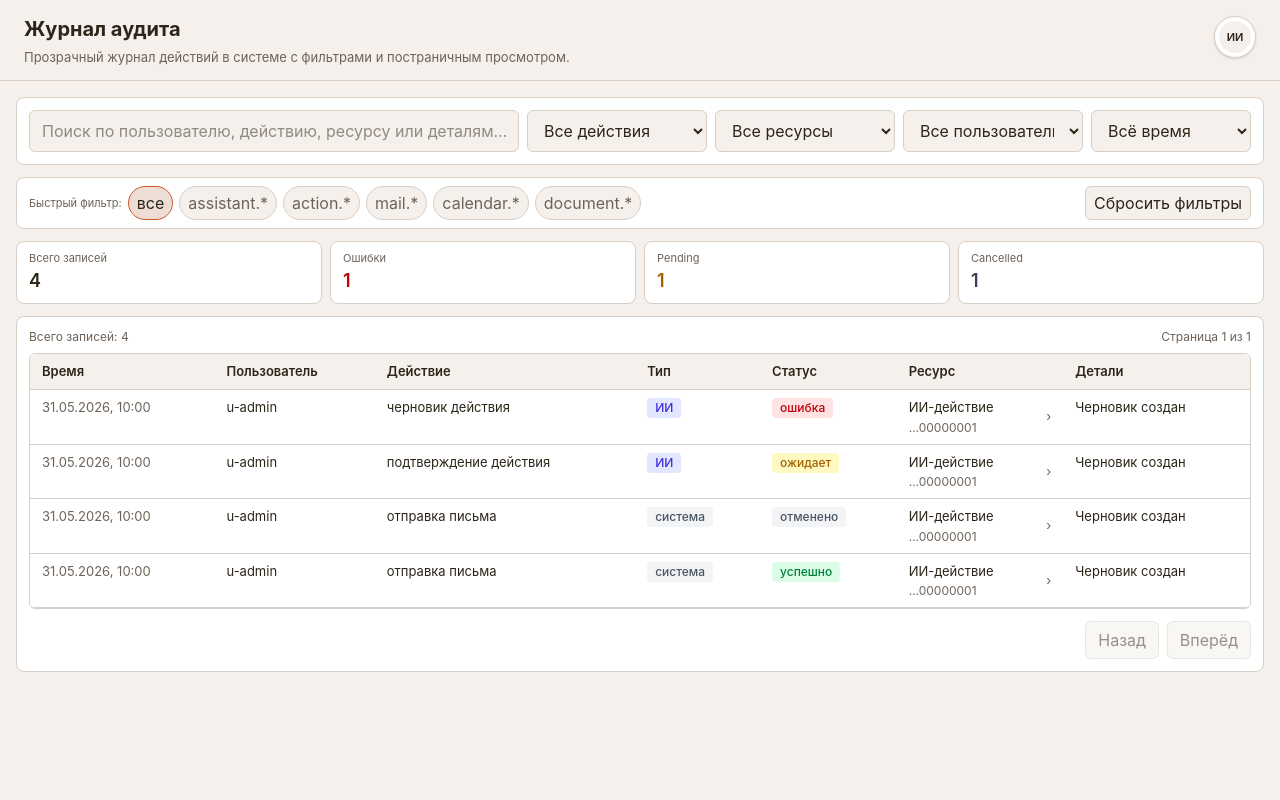
Test: AuditPage — summary and reset filters › shows summary counters for filtered records
The image size is (1280, 800).
Expected: the text with test id "audit-summary-total" reads "4", 29,270 -> 41,291
Expected: the text "Ошибки" is shown, 343,251 -> 386,265
Click the button "mail.*" at (397, 203), box 366,186 -> 427,220
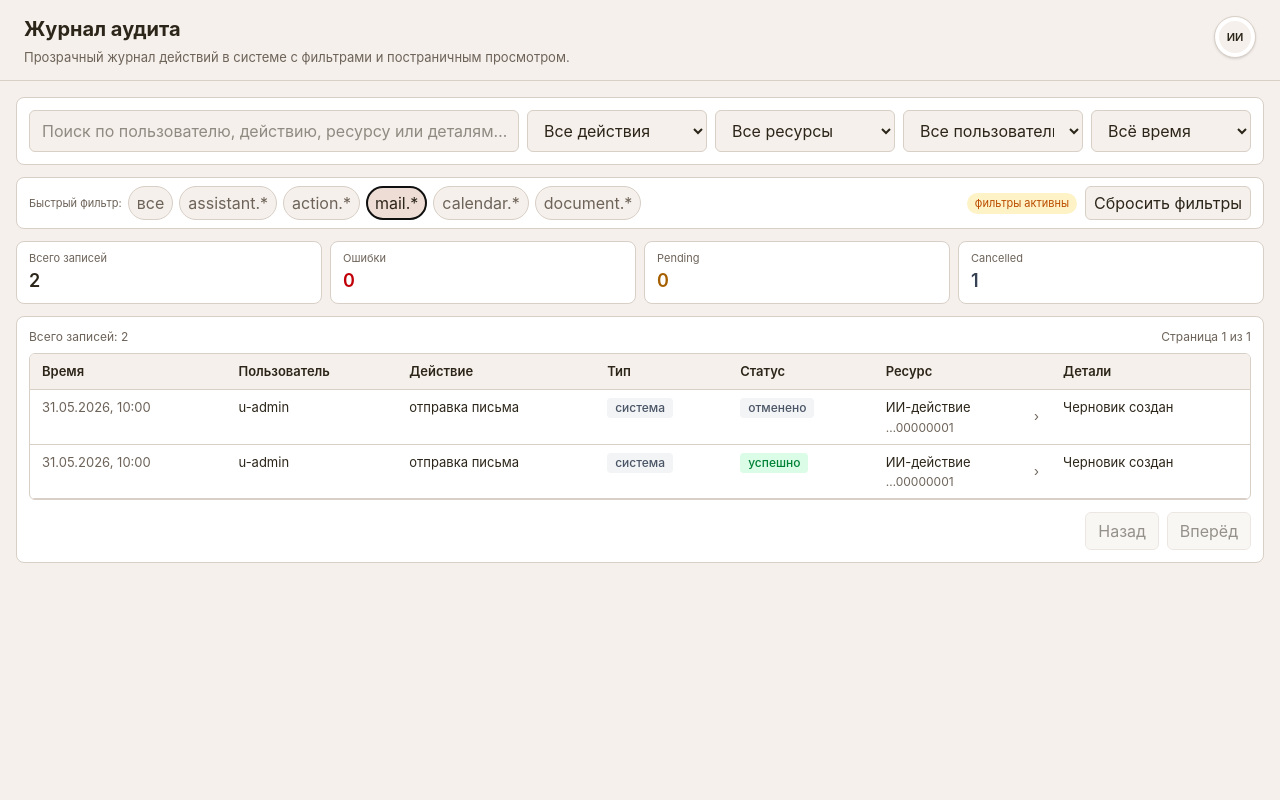
Expected: the text with test id "audit-summary-total" reads "2", 29,270 -> 40,291
Expected: the text with test id "audit-summary-error" reads "0", 343,270 -> 355,291
Expected: the text "фильтры активны" is shown, 967,193 -> 1077,214
